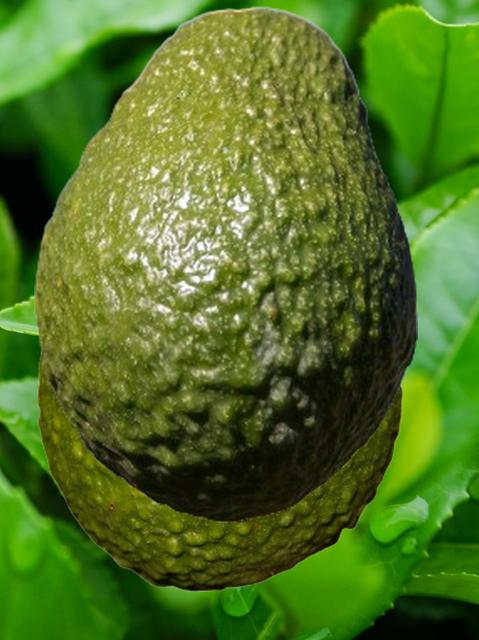avocado: (34, 5, 416, 521), (36, 348, 402, 590)
